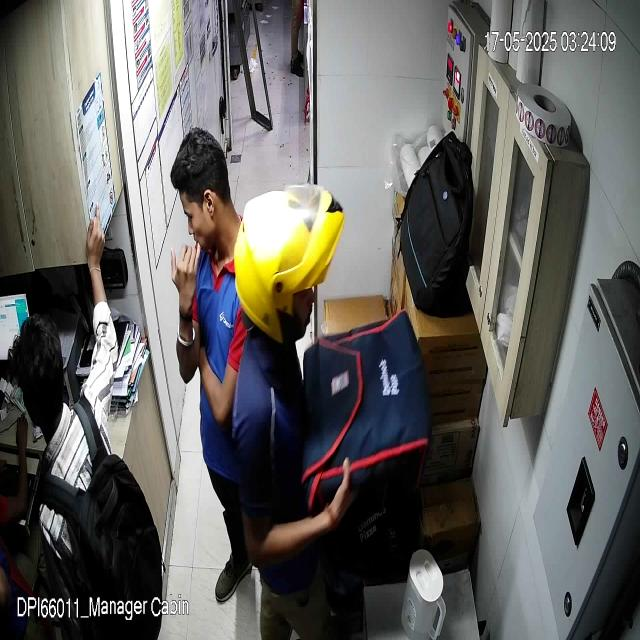helmet: (230, 182, 346, 351)
no_helmet: (169, 126, 234, 260), (7, 313, 64, 447)
